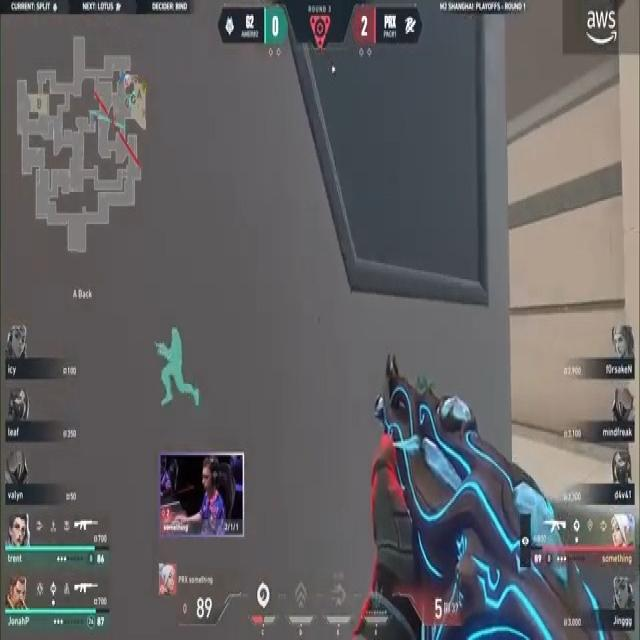ally behind wall: (155, 321, 201, 411)
